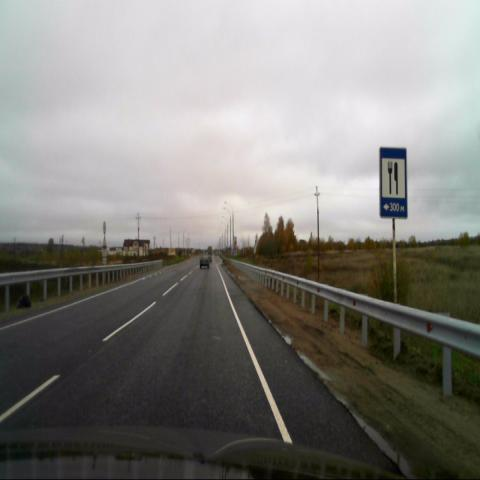7_7: (379, 146, 407, 217)
